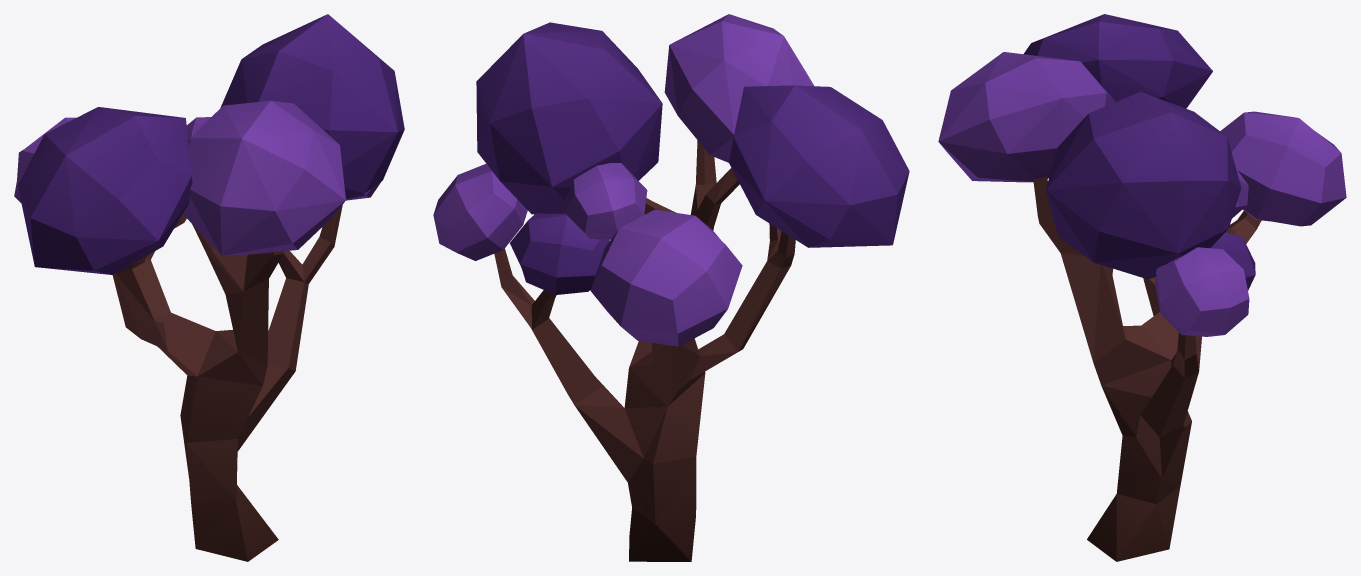
Rendered from MagicTree3.fbx.
3 views of the same model, side by side, from view 1: azimuth 30°, elevation 25°; view 2: azimuth 150°, elevation 25°; view 3: azimuth 270°, elevation 25° (orthographic). The views are drawn at different scales.
Visible parts, largest first — view 1: MagicTree3; view 2: MagicTree3; view 3: MagicTree3.
Boxes of the visible parts, left/top/right/bottom form: MagicTree3: left=14, top=14, right=404, bottom=561; MagicTree3: left=433, top=14, right=909, bottom=561; MagicTree3: left=938, top=14, right=1346, bottom=561.
Bounding box in the file's own units: 384 × 450 × 342.
